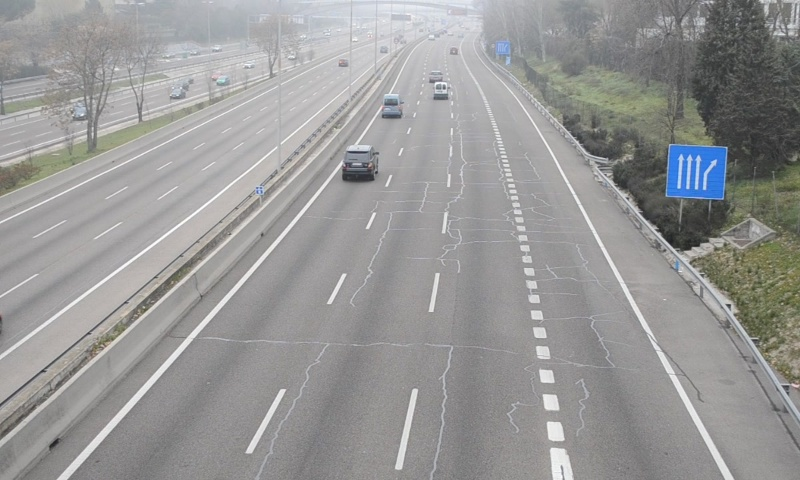car: (342, 144, 378, 178)
van: (382, 94, 402, 120)
